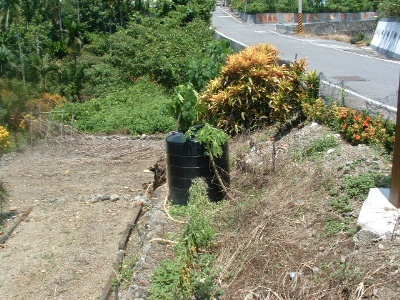bucket: (165, 127, 230, 205)
